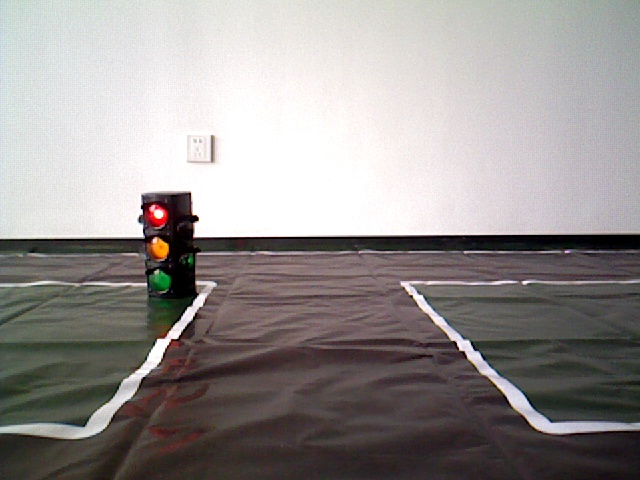red: (145, 192, 193, 298)
